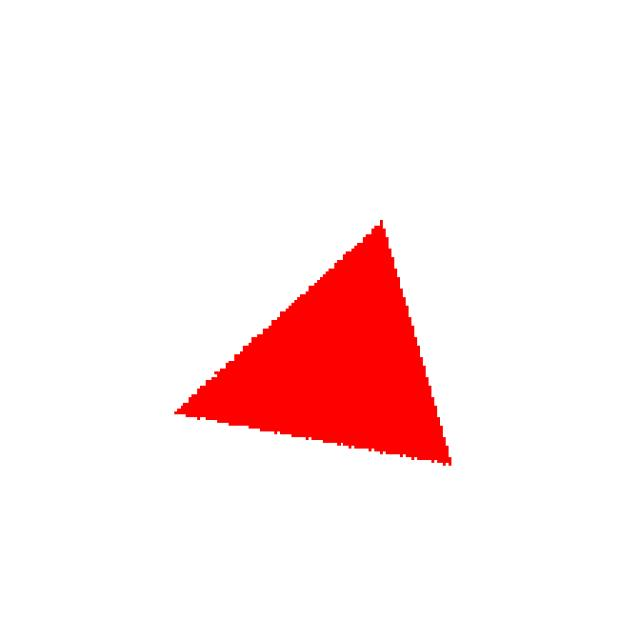Triangle: (154, 193, 509, 520)
